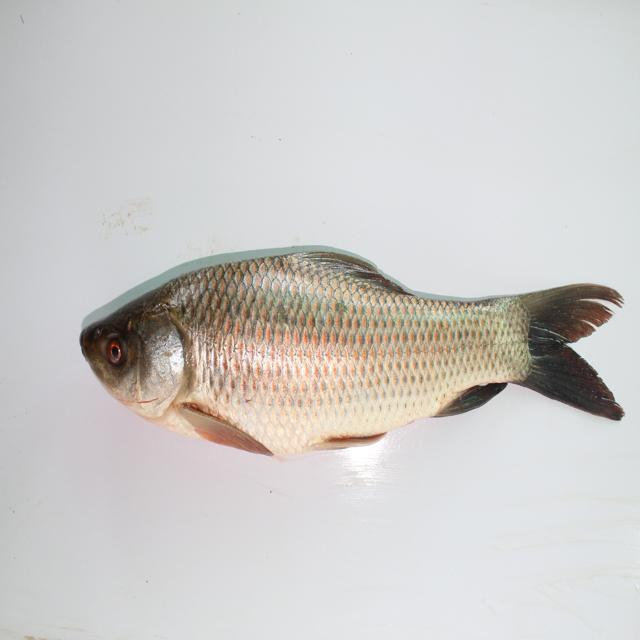Rohu: (67, 244, 629, 457)
